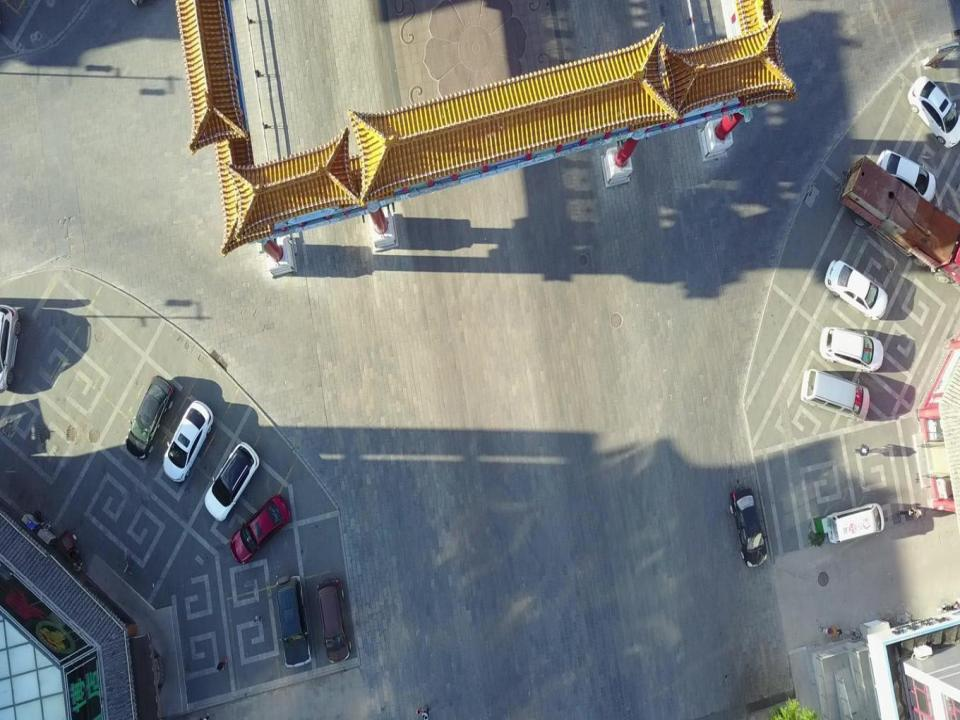car: (229, 494, 291, 565), (204, 442, 259, 522), (162, 400, 214, 483), (906, 75, 960, 150), (126, 376, 174, 460), (824, 259, 888, 320), (276, 574, 311, 667), (729, 485, 767, 568), (316, 576, 351, 664), (819, 326, 884, 373), (876, 150, 936, 200)
truck: (839, 155, 960, 288)
van: (800, 368, 869, 421), (826, 503, 884, 544)
